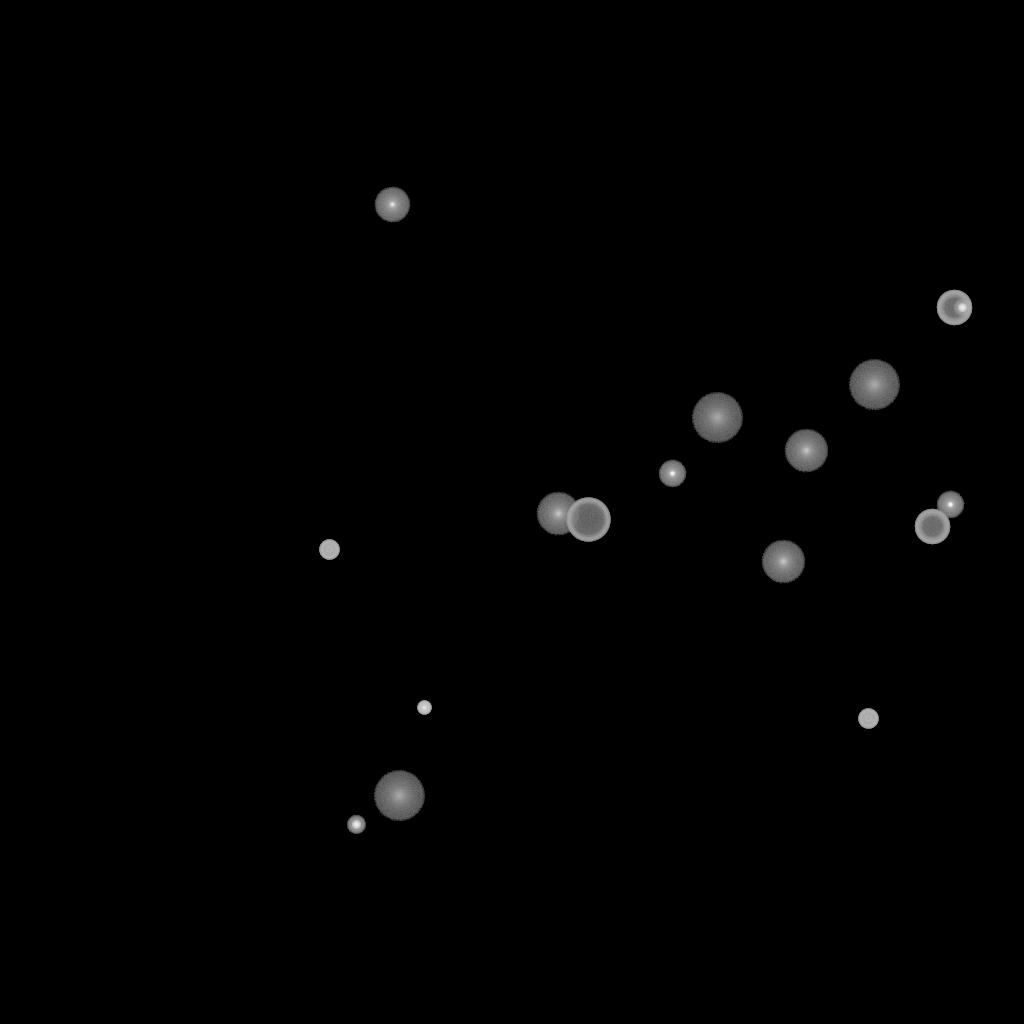depth:-10: (936, 491, 964, 519), (658, 460, 686, 488)
depth:-20: (347, 816, 365, 834), (953, 299, 971, 317)
depth:-30: (417, 701, 431, 715)
depth:-40: (319, 540, 339, 560), (858, 709, 878, 729)
depth:-60: (936, 290, 972, 326), (914, 509, 950, 545)
depth:-70: (566, 498, 610, 542)
depth:0: (374, 187, 410, 223)
depth:10: (761, 540, 805, 584), (536, 492, 580, 536), (784, 429, 828, 473)
depth:20: (373, 771, 425, 821), (691, 393, 743, 443), (848, 360, 900, 410)
